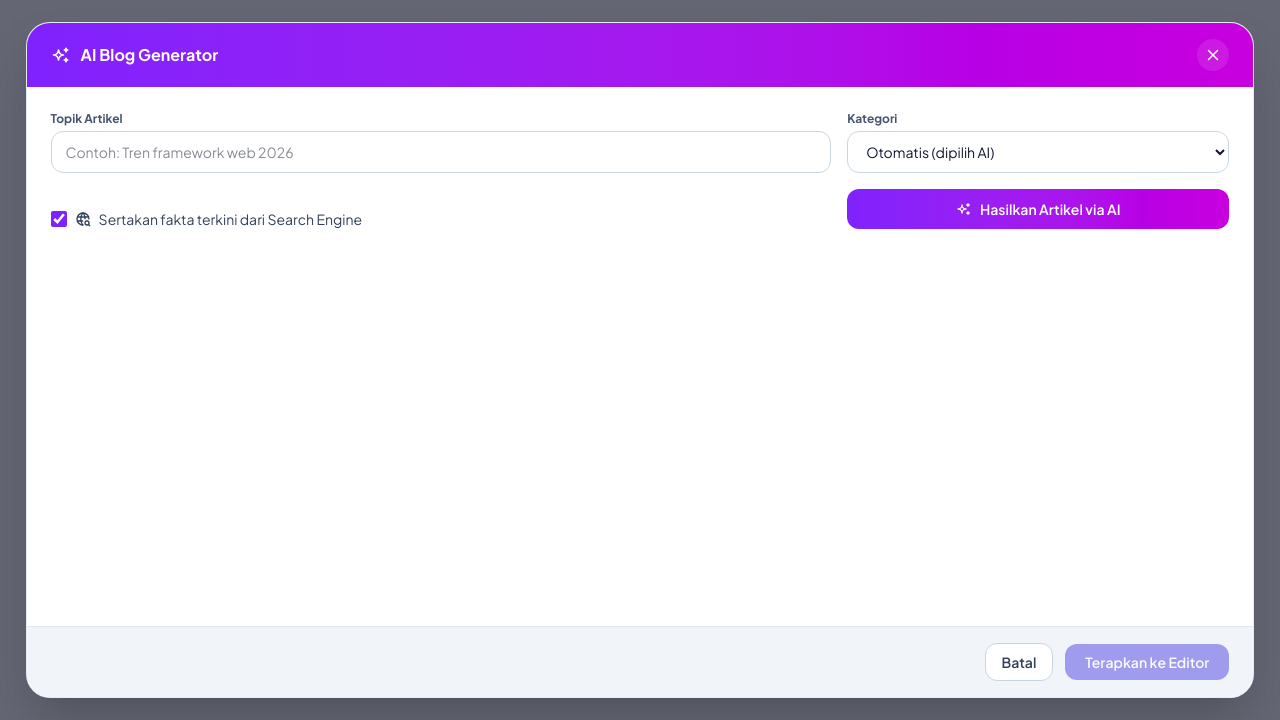
Test: AiPostGeneratorModal Component › can disable web search and hides sources when none are returned
Click the checkbox with test id "ai-toggle-search": x=59, y=219 x1=51 y1=211 x2=67 y2=227
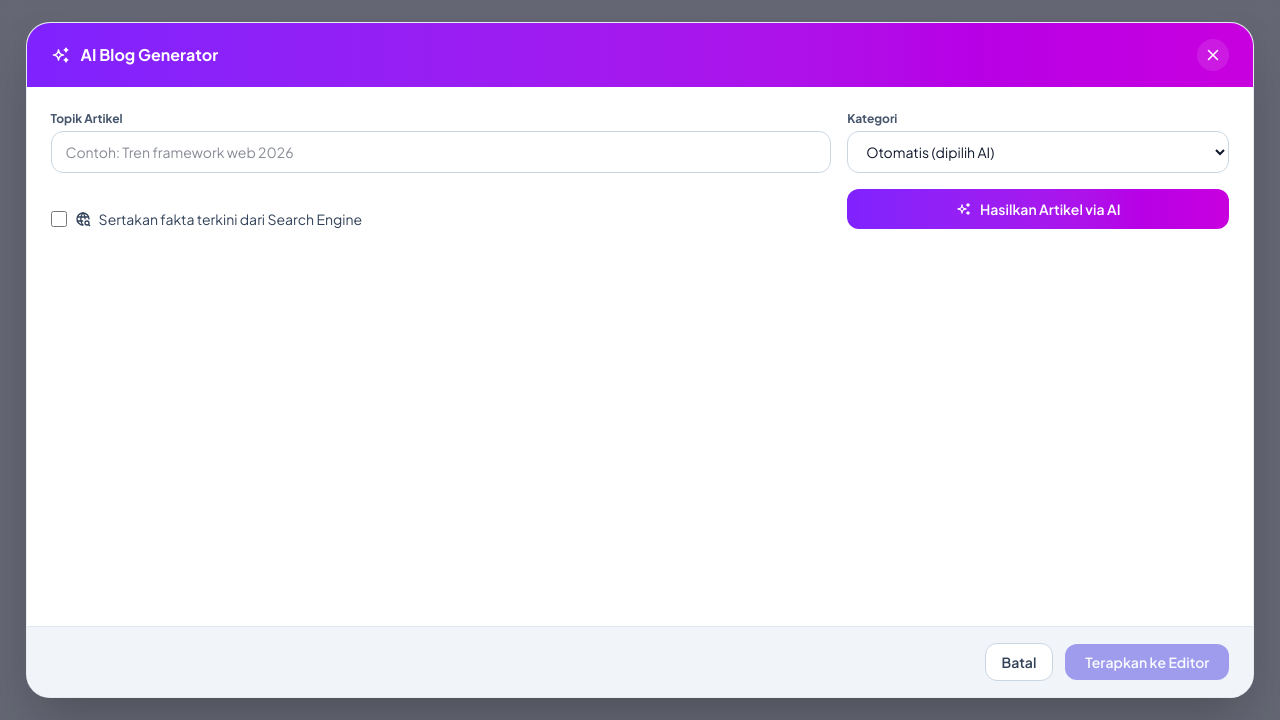
In the field labelled "Topik Artikel": x=441, y=152 x1=51 y1=131 x2=831 y2=173, type "Topik"
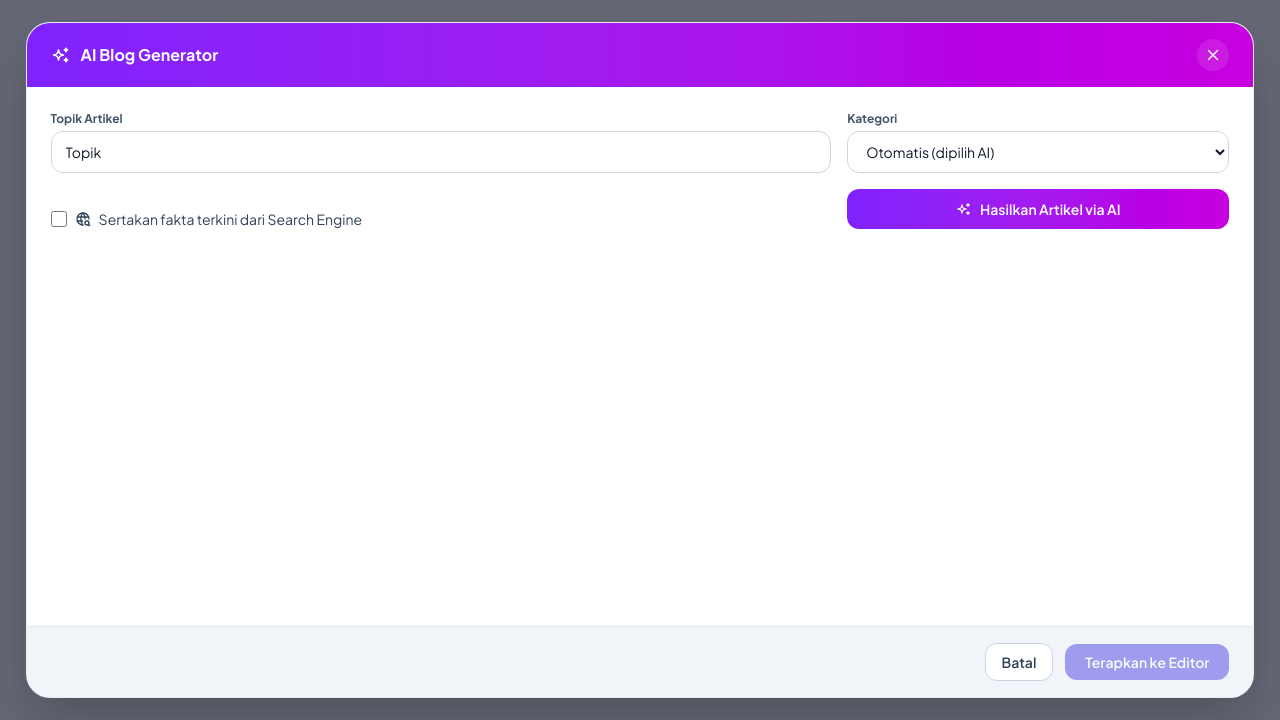
Click the button "Hasilkan Artikel via AI": x=1038, y=209 x1=847 y1=189 x2=1229 y2=229
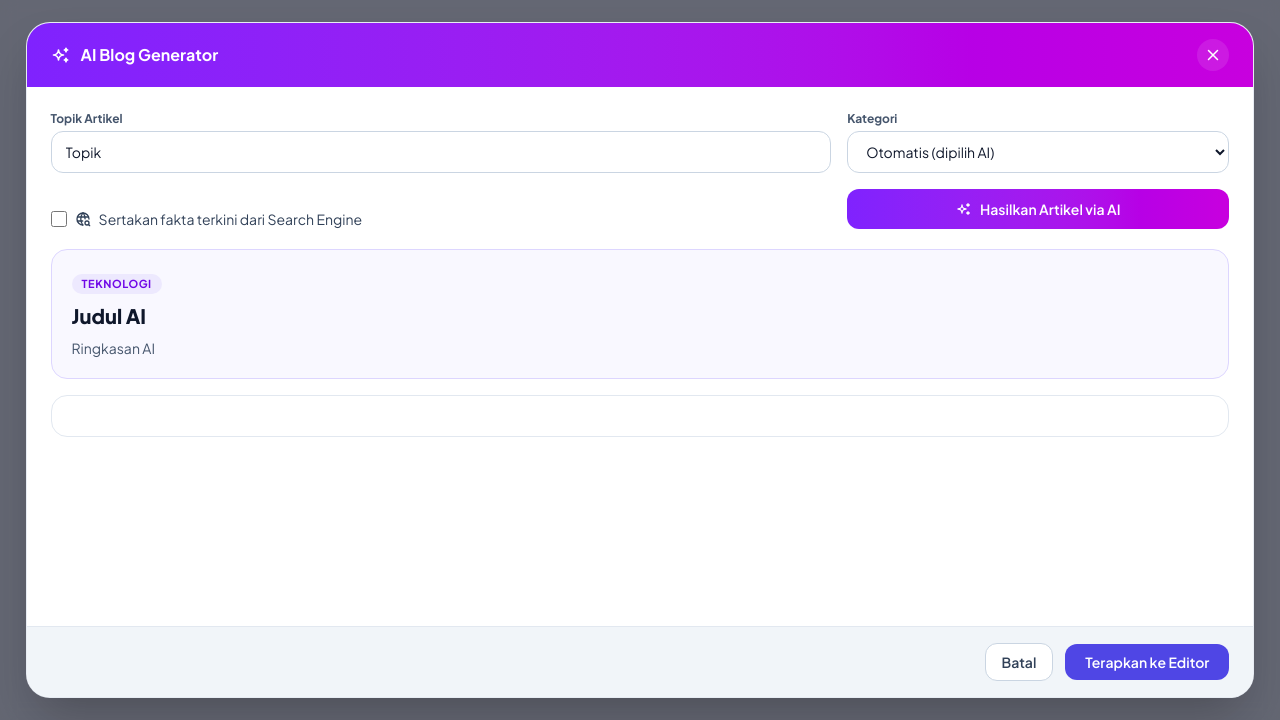
Expected: the element with test id "ai-result" is shown, x1=51 y1=249 x2=1229 y2=437
